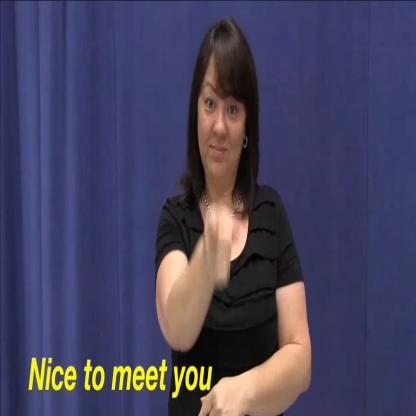NiceToMeetYou: (186, 194, 258, 318)
